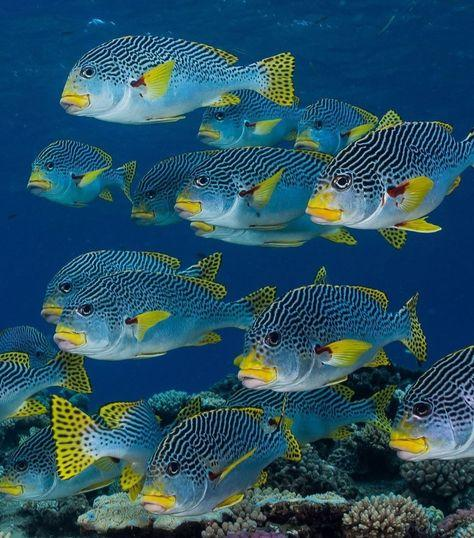fish: (58, 32, 298, 125), (54, 269, 277, 361), (235, 284, 427, 389), (307, 121, 474, 232), (145, 409, 303, 516), (51, 392, 233, 479), (41, 246, 223, 325), (178, 148, 336, 231), (226, 385, 405, 455), (2, 423, 137, 498), (393, 347, 474, 461), (29, 142, 136, 211), (200, 86, 312, 147), (0, 348, 91, 421), (130, 151, 214, 226), (292, 95, 381, 154), (203, 226, 358, 248), (0, 325, 55, 363)
